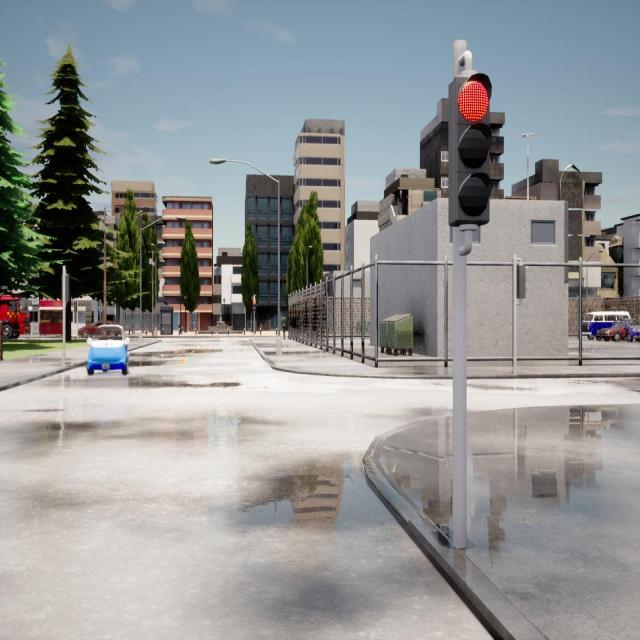Pedestrian: (280, 313, 286, 339)
Vehicle: (86, 325, 130, 375), (0, 294, 30, 339), (582, 311, 630, 338), (78, 321, 118, 338), (596, 323, 625, 341), (622, 318, 640, 342)
traffic_light: (449, 77, 491, 223), (517, 265, 526, 299), (65, 275, 70, 301), (252, 299, 256, 312), (74, 302, 77, 313)
